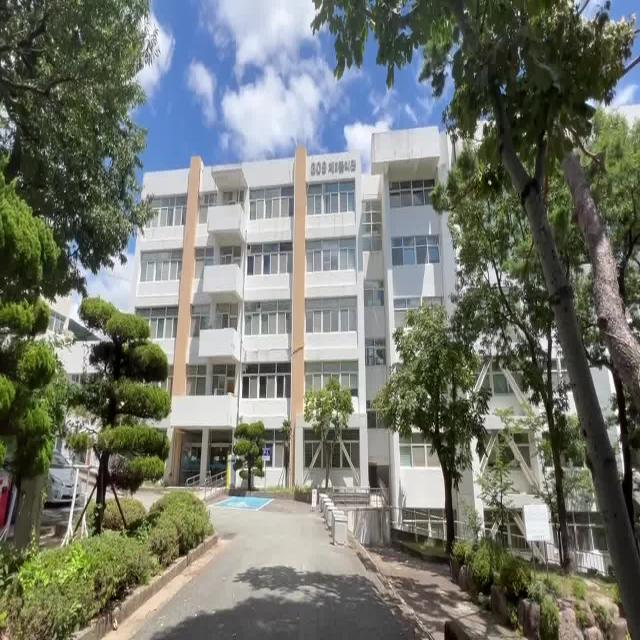building: (167, 150, 384, 392)
